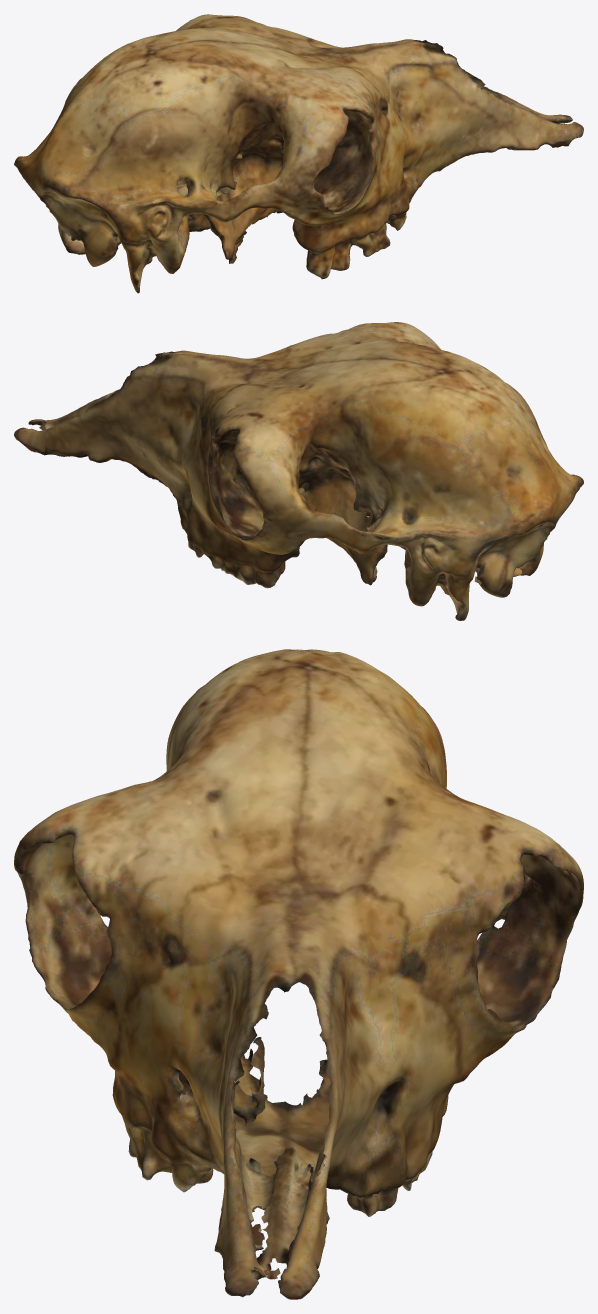
The model's file is cranium.glb.
3 renders of one model, top to bottom at view 1: azimuth 30°, elevation 25°; view 2: azimuth 150°, elevation 25°; view 3: azimuth 270°, elevation 25°, orthographic. The views are drawn at different scales.
Visible parts, largest first — view 1: Alpaca Cranium; view 2: Alpaca Cranium; view 3: Alpaca Cranium.
Part boxes in pixels (x1,y1,x2,y2): Alpaca Cranium: [14, 14, 583, 293]; Alpaca Cranium: [14, 322, 583, 620]; Alpaca Cranium: [14, 649, 583, 1299].
Bounding box in the file's own units: 0.2592 × 0.1037 × 0.1403.
1 material, 1 textured.
